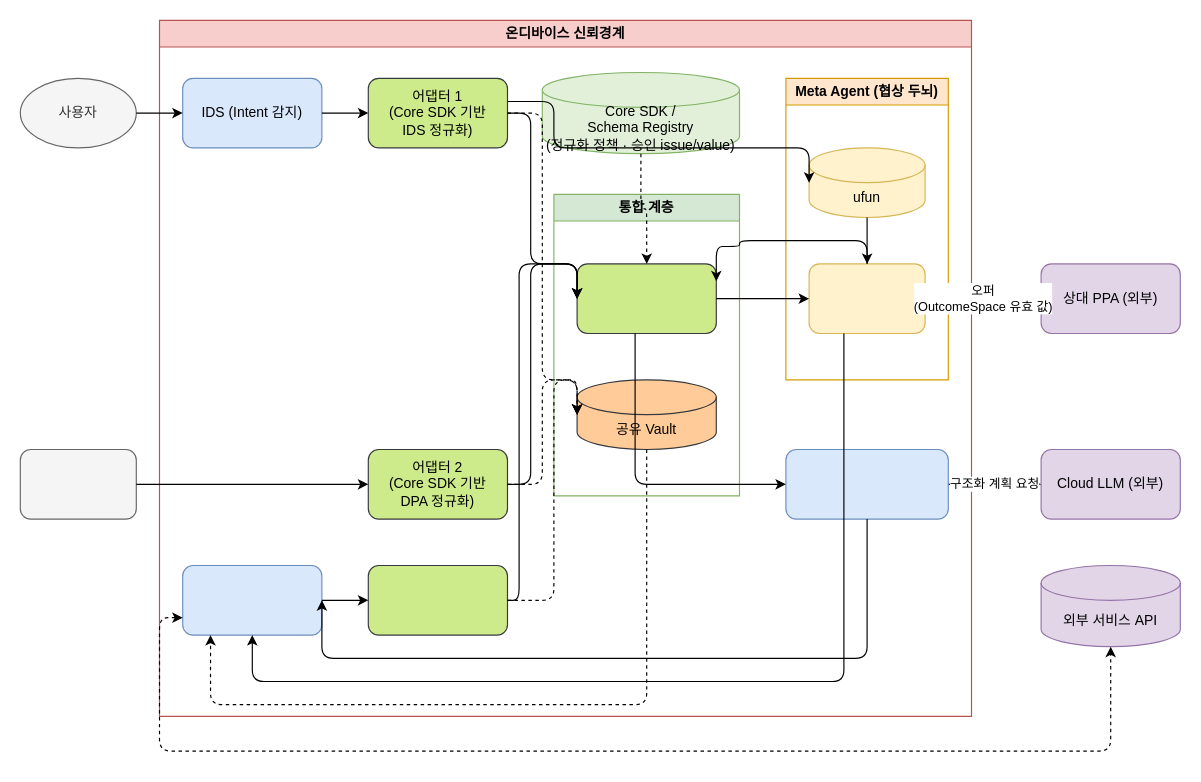
The diagram is 1201 pixels wide and 782 high, and some of its shapes have lost their labels. The shapes that lost their labels are listed below. From the top down, each one's centre as x and y in pixels, then its label:
At [646,298]: "출력 빌더 (Outcome/요청)".
At [866,298]: "협상 엔진".
At [77,483]: "DPA (가전)".
At [866,483]: "Orchestrator (계획 작성)".
At [252,599]: "Sub-Agent (실행/조회)".
At [437,599]: "어댑터 3 (Core SDK 기반 Sub 정규화)".
